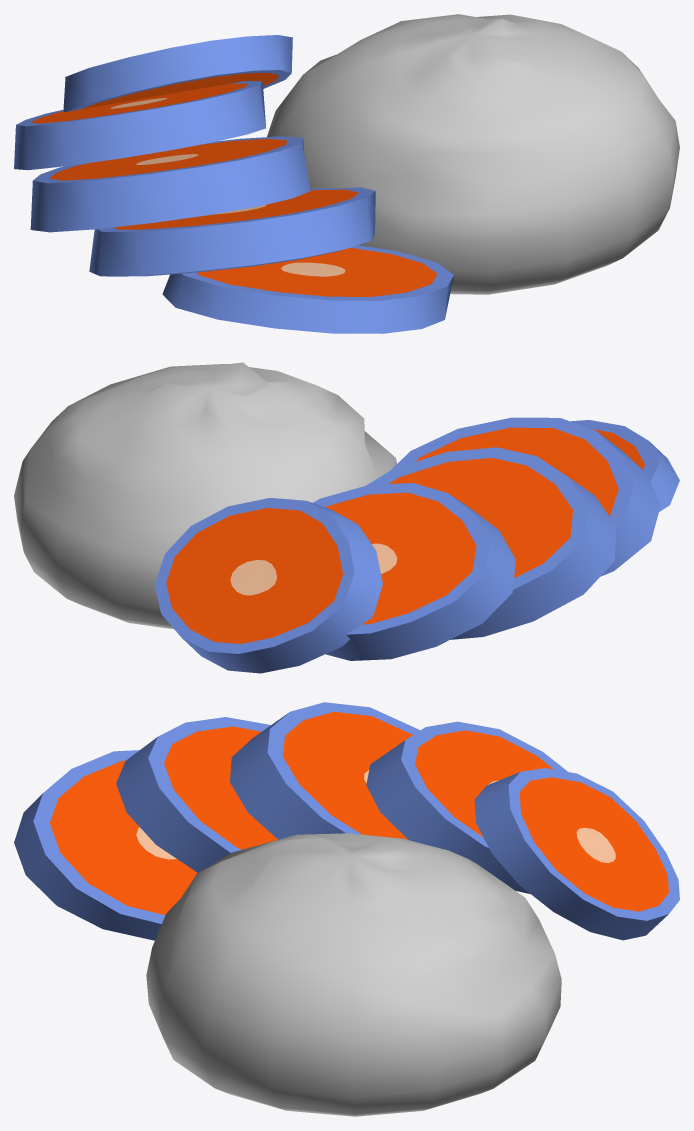
File: SM_Rice-Fish_Plate.fbx
3 views of the same model, one above another, from view 1: azimuth 30°, elevation 25°; view 2: azimuth 150°, elevation 25°; view 3: azimuth 270°, elevation 25° (orthographic). The views are drawn at different scales.
Visible parts, largest first — view 1: Rice-Fish; view 2: Rice-Fish; view 3: Rice-Fish.
Part boxes in pixels (<box>): Rice-Fish: <box>14,14,679,333</box>; Rice-Fish: <box>14,362,679,673</box>; Rice-Fish: <box>14,702,679,1116</box>.
Size of the model in its own units: 117 by 34.38 by 110.
